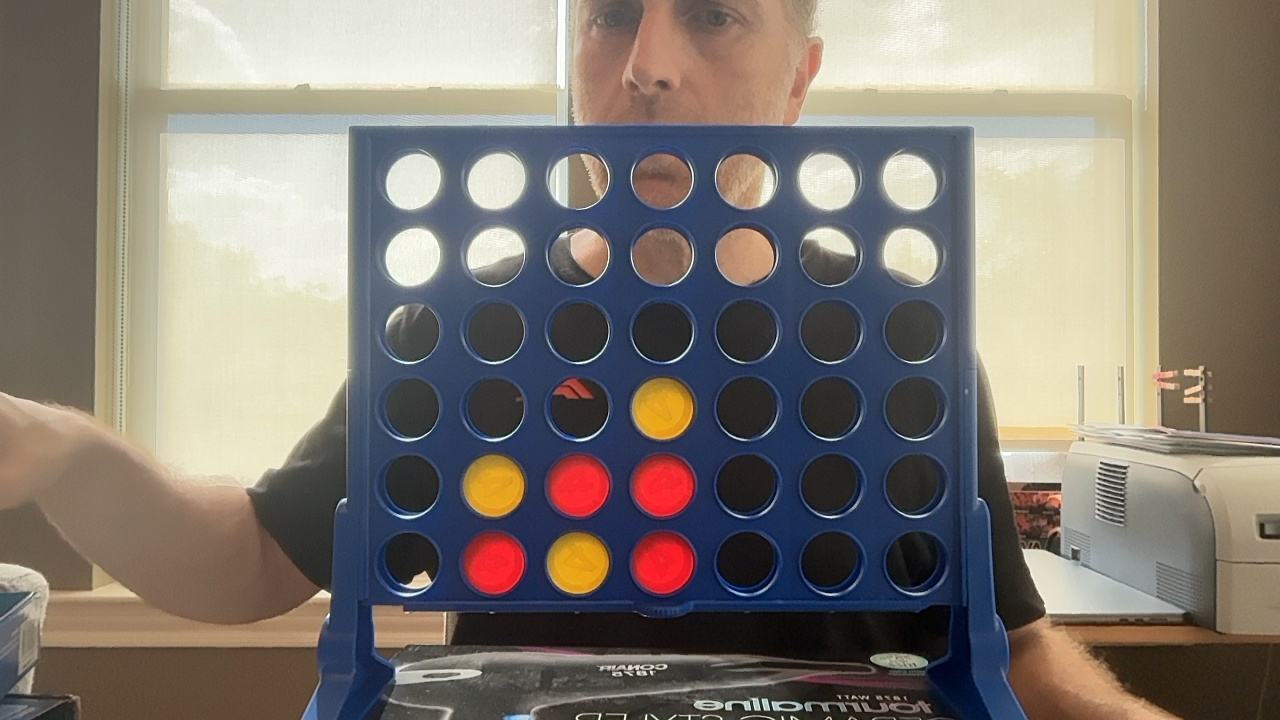red piece: (631, 531, 695, 595), (632, 454, 695, 517), (462, 532, 525, 595), (547, 454, 610, 517)
yellow piece: (631, 377, 694, 440), (547, 532, 609, 594), (463, 455, 525, 517)
